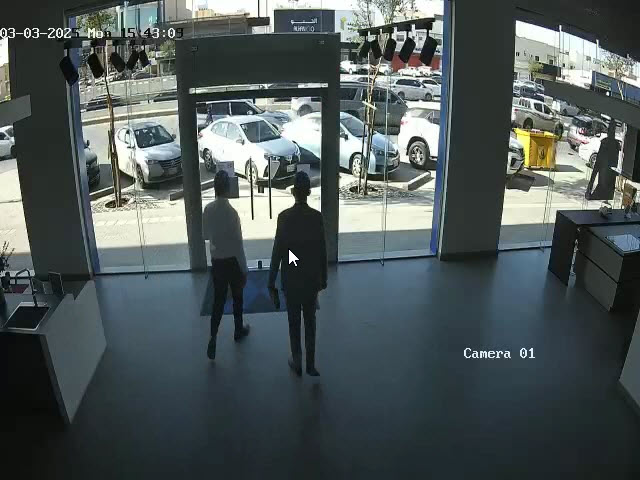employee: (267, 171, 328, 378)
male: (202, 168, 250, 360)
